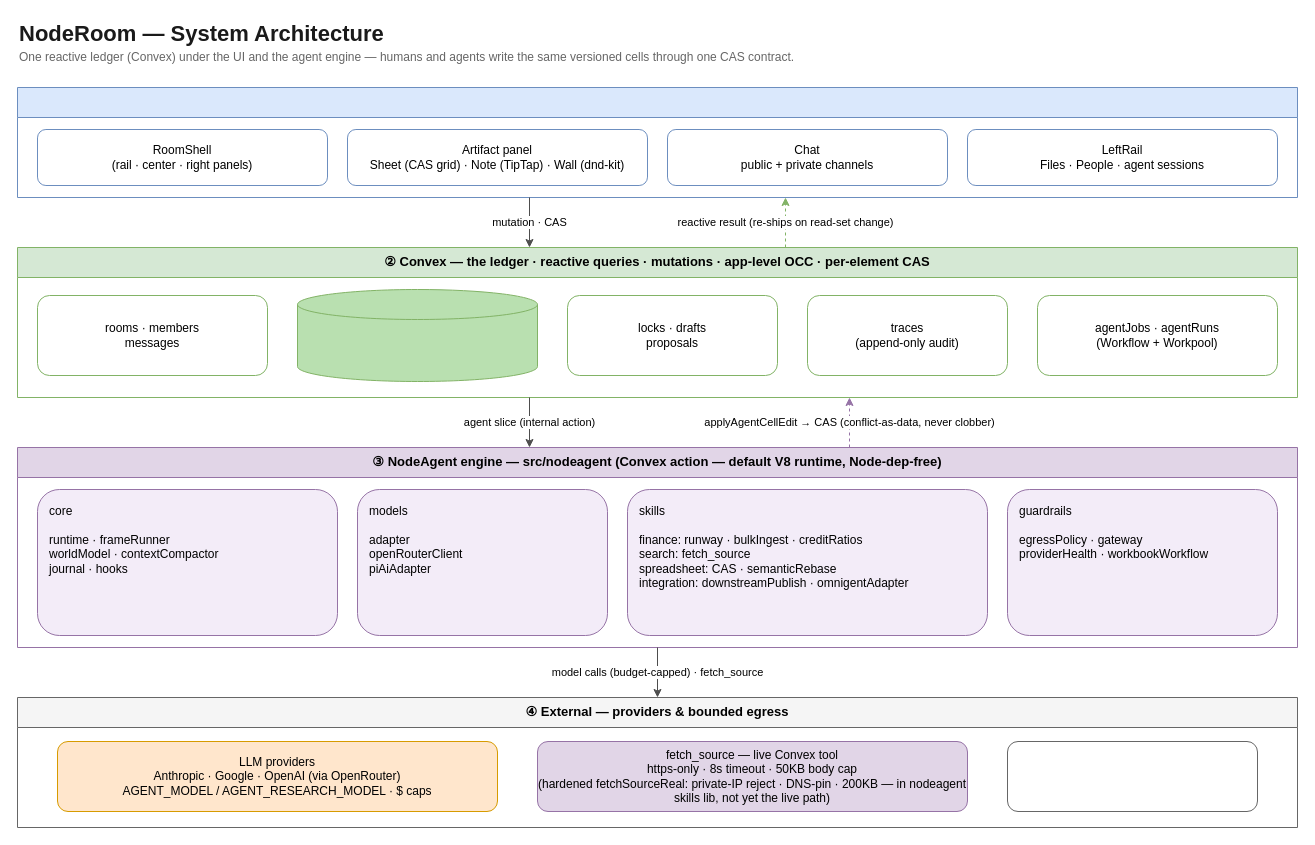
This 1315x845 diagram has some shape labels left out. Each missing label, with the box of its shape:
artifacts + elements (per-element version) ⟵ CAS spine ⟶: (296, 288, 538, 382)
Web sources (cited, evidence-bearing): (1006, 740, 1258, 812)
① Client — React 19 · Vite · useSyncExternalStore/Context · @dnd-kit: (16, 86, 1298, 198)
